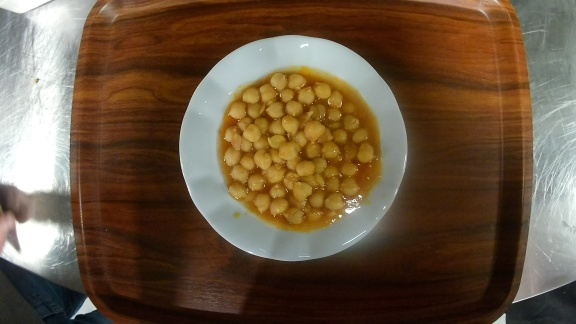sulunohut: (178, 34, 408, 262)
